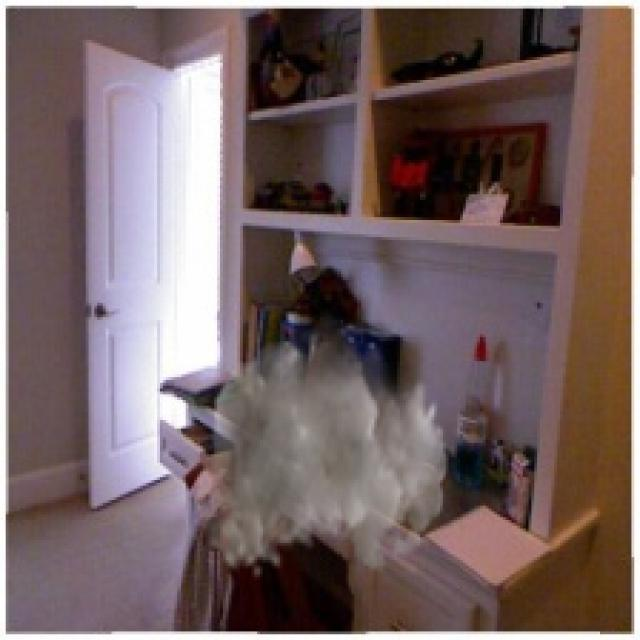Smoke: (201, 309, 448, 580)
